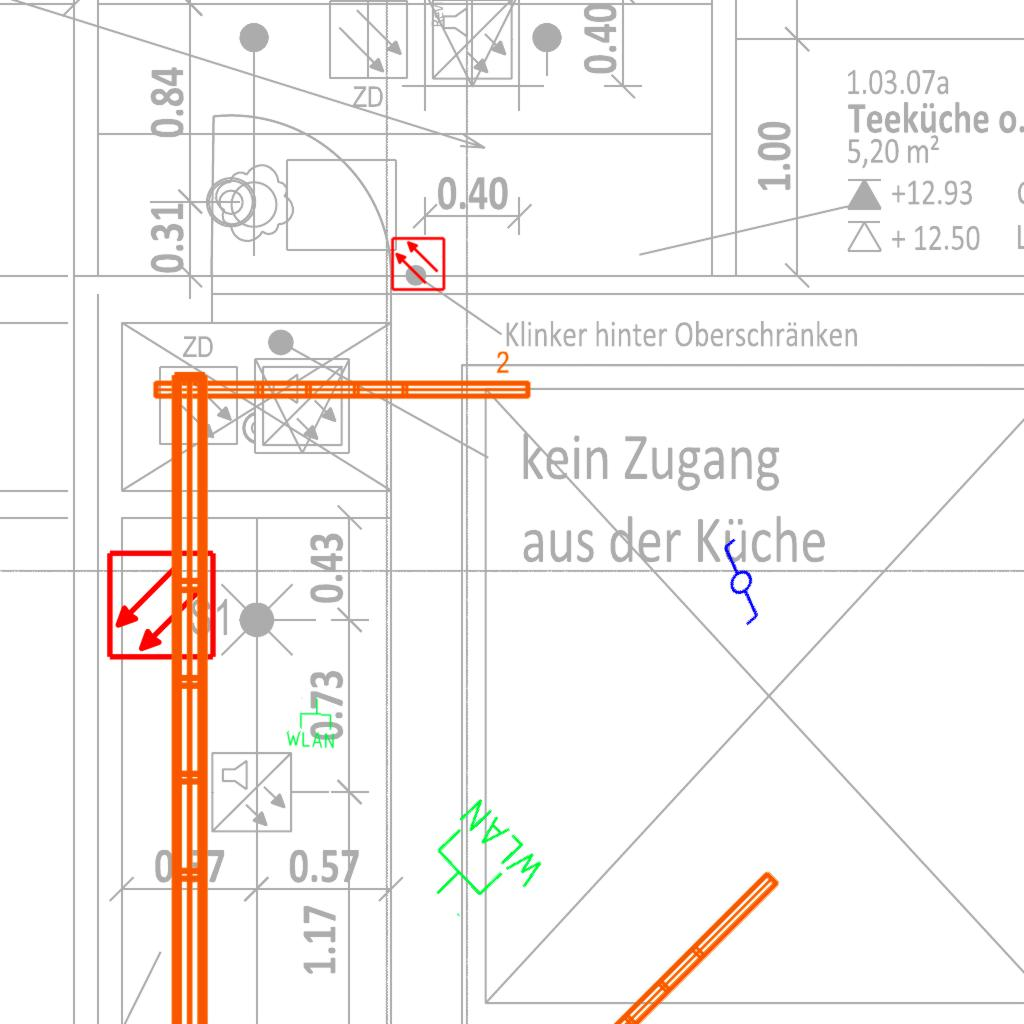Ambulanz_Pendelleuchte_LED: (159, 361, 271, 1024), (492, 862, 807, 1024), (148, 349, 535, 405)
RMO_Rauchmelder_optischer: (105, 549, 218, 662), (390, 236, 446, 292)
WLAN: (405, 792, 553, 941), (283, 695, 339, 751)
Wechselschalter: (686, 532, 790, 638)
